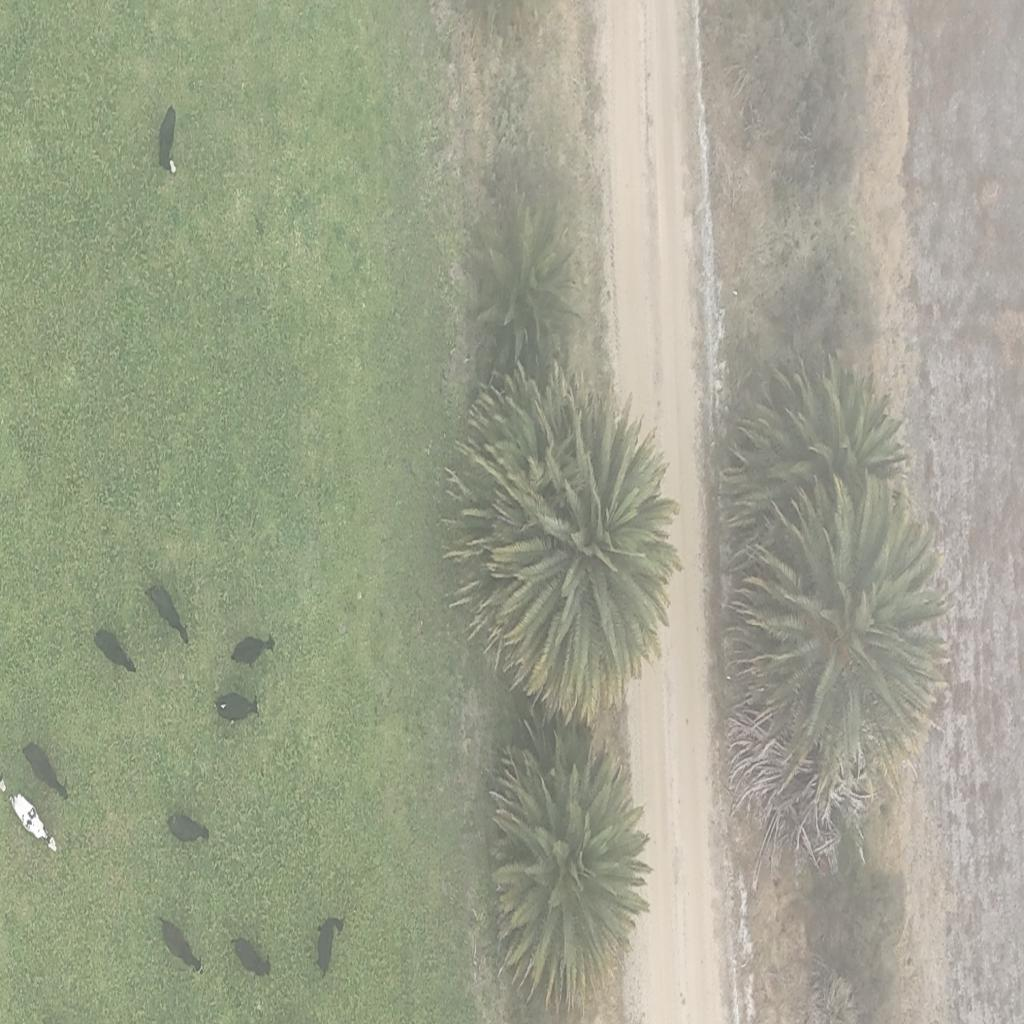cow: (10, 788, 59, 856), (21, 742, 69, 801), (145, 582, 190, 644), (158, 917, 204, 975), (92, 626, 138, 674), (232, 936, 272, 979), (316, 917, 344, 975), (213, 690, 259, 724), (230, 632, 274, 666), (167, 811, 209, 845), (159, 106, 177, 176)
